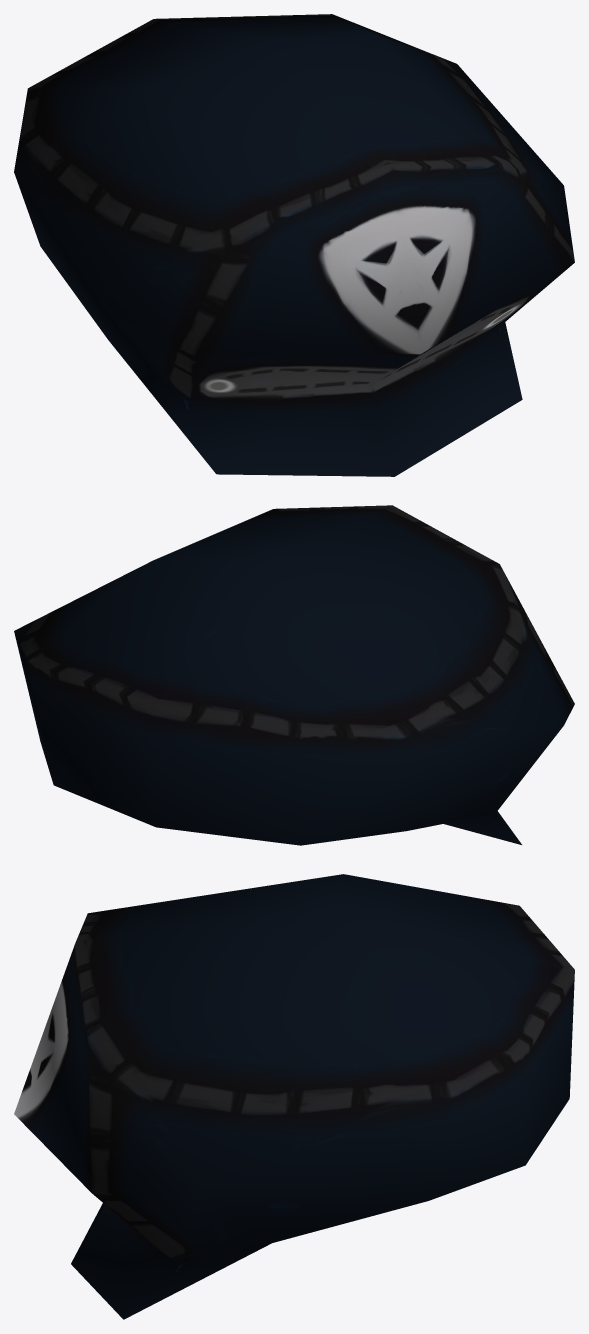
Rendered from character_Head05.FBX.
3 views of the same model, one above another, from view 1: azimuth 30°, elevation 25°; view 2: azimuth 150°, elevation 25°; view 3: azimuth 270°, elevation 25° (orthographic). The views are drawn at different scales.
Visible parts, largest first — view 1: Object006; view 2: Object006; view 3: Object006.
Part boxes in pixels (<box>): Object006: <box>14,14,574,476</box>; Object006: <box>14,505,574,845</box>; Object006: <box>14,874,574,1319</box>.
Size of the model in its own units: 44.37 by 31.25 by 44.35.
